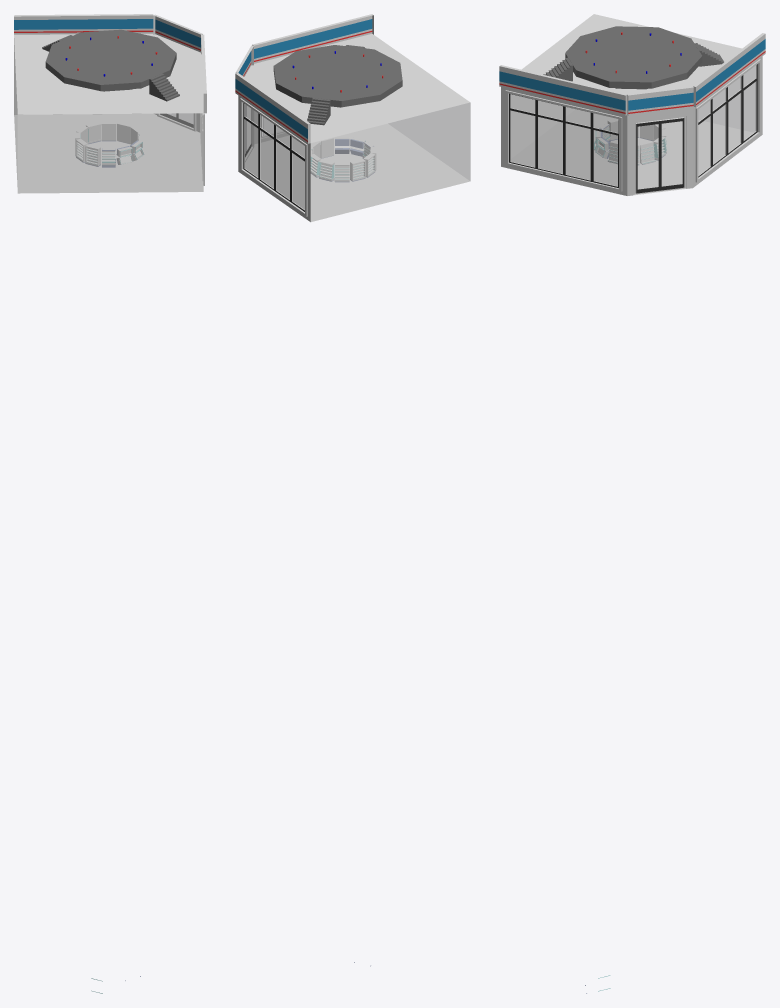
Rendered from store.glb.
3 renders of one model, left to right at view 1: azimuth 30°, elevation 25°; view 2: azimuth 150°, elevation 25°; view 3: azimuth 270°, elevation 25°, orthographic. The views are drawn at different scales.
Visible parts, largest first — view 1: Cube.058, Cylinder, Stairs; view 2: Cube.058, Cylinder, Stairs; view 3: Cube.058, Cylinder, Stairs.
Part boxes in pixels (<box>): Cube.058: <box>14,14,206,193</box>; Cylinder: <box>45,29,176,91</box>; Stairs: <box>42,35,179,101</box>; Cube.058: <box>235,14,470,222</box>; Cylinder: <box>273,45,402,107</box>; Stairs: <box>307,45,365,125</box>; Cube.058: <box>499,14,765,195</box>; Cylinder: <box>565,26,702,89</box>; Stairs: <box>543,43,723,81</box>.
Bounding box in the file's own units: 20.59 × 89.87 × 22.73.
